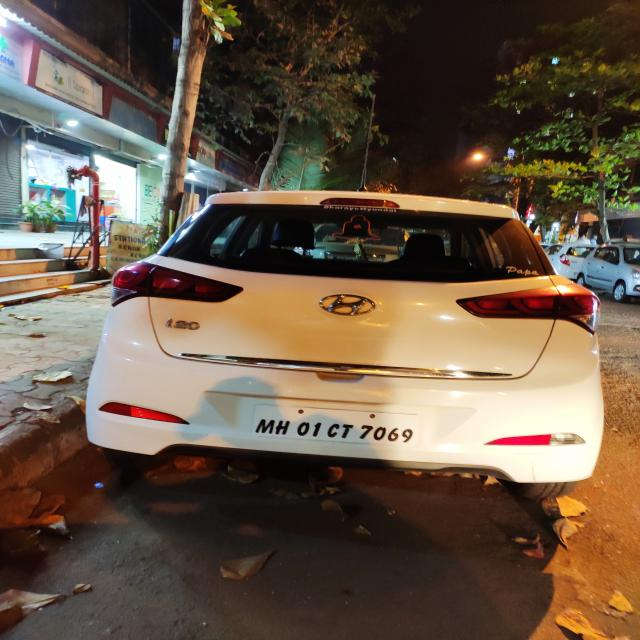Number-Plate: (250, 408, 413, 446)
